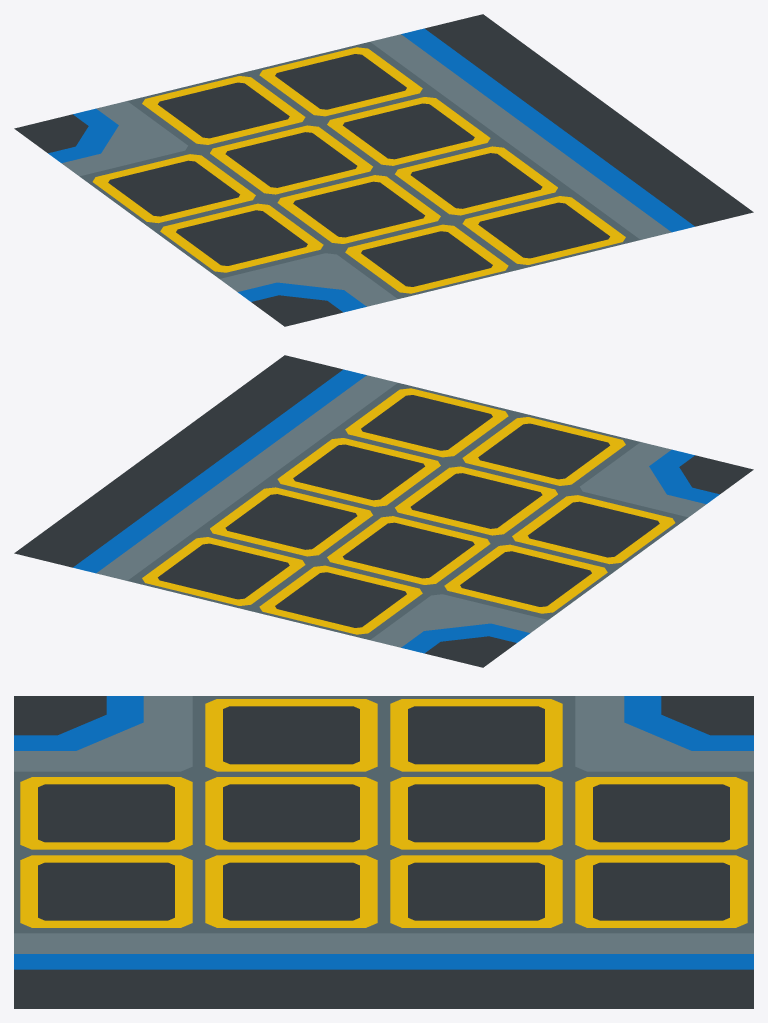
Rendered from Floor_type_C_001.glb.
3 renders of one model, top to bottom at view 1: azimuth 30°, elevation 25°; view 2: azimuth 150°, elevation 25°; view 3: azimuth 270°, elevation 25°, orthographic. The views are drawn at different scales.
Visible parts, largest first — view 1: Floor_type_C_001; view 2: Floor_type_C_001; view 3: Floor_type_C_001.
Boxes of the visible parts, x1,y1,x2,y2 form: Floor_type_C_001: (14,14,753,326); Floor_type_C_001: (14,355,753,667); Floor_type_C_001: (14,696,753,1008).
Size of the model in its own units: 4 by 2.85e-23 by 4.
2 materials, 2 textured.
